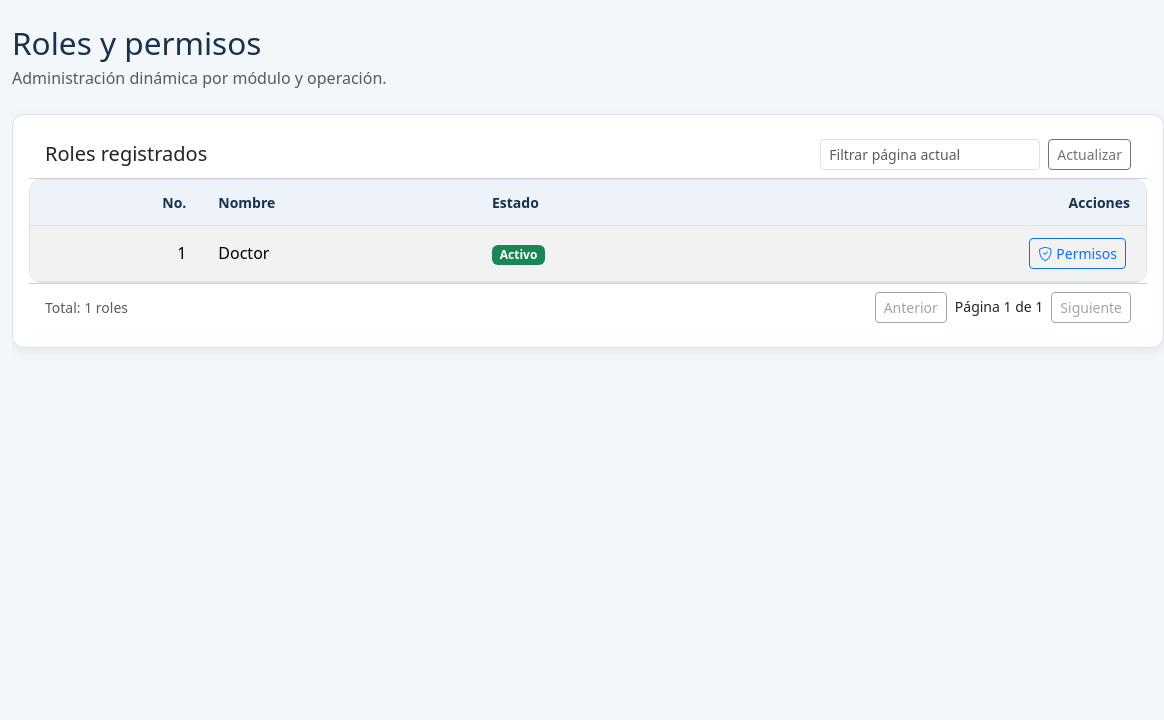
Test: RolesComponent › construye la matriz solo con módulos devueltos por la API
The width and height of the screenshot is (1164, 720).
Click the button with aria-label "Administrar permisos de Doctor": click(1078, 253) [1029,238,1126,269]
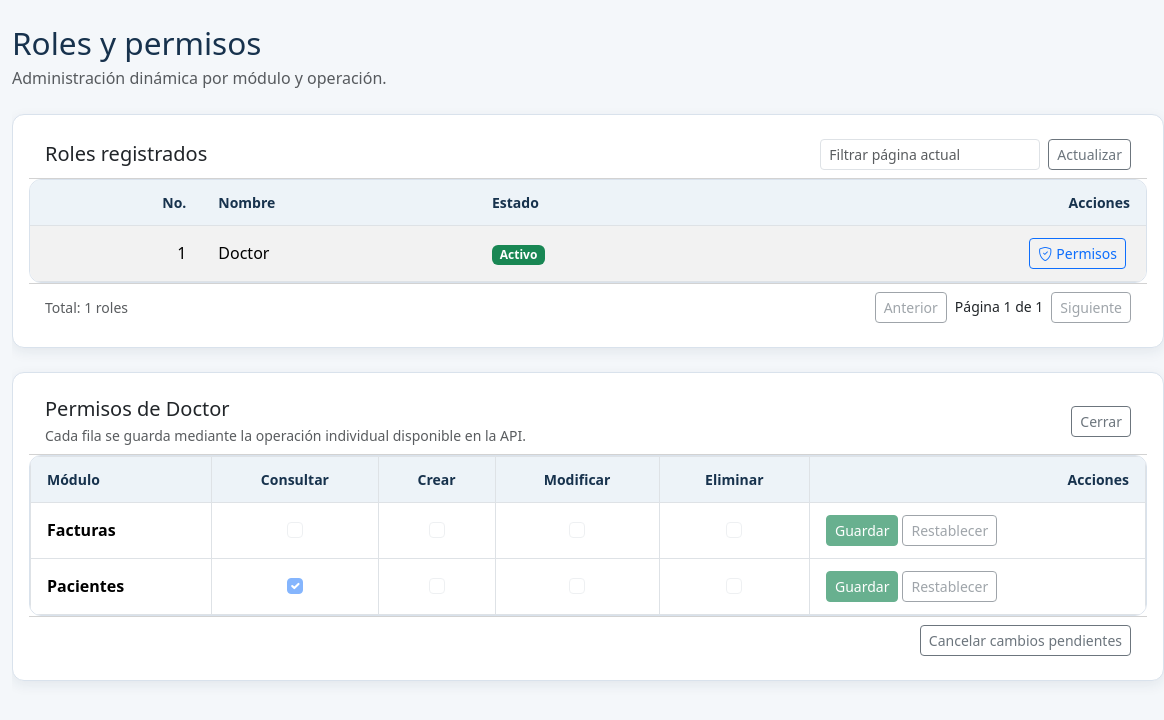
Check: the text "Pacientes" is shown, box [30,558,212,614]
Check: the text "Facturas" is shown, box [30,502,212,558]
